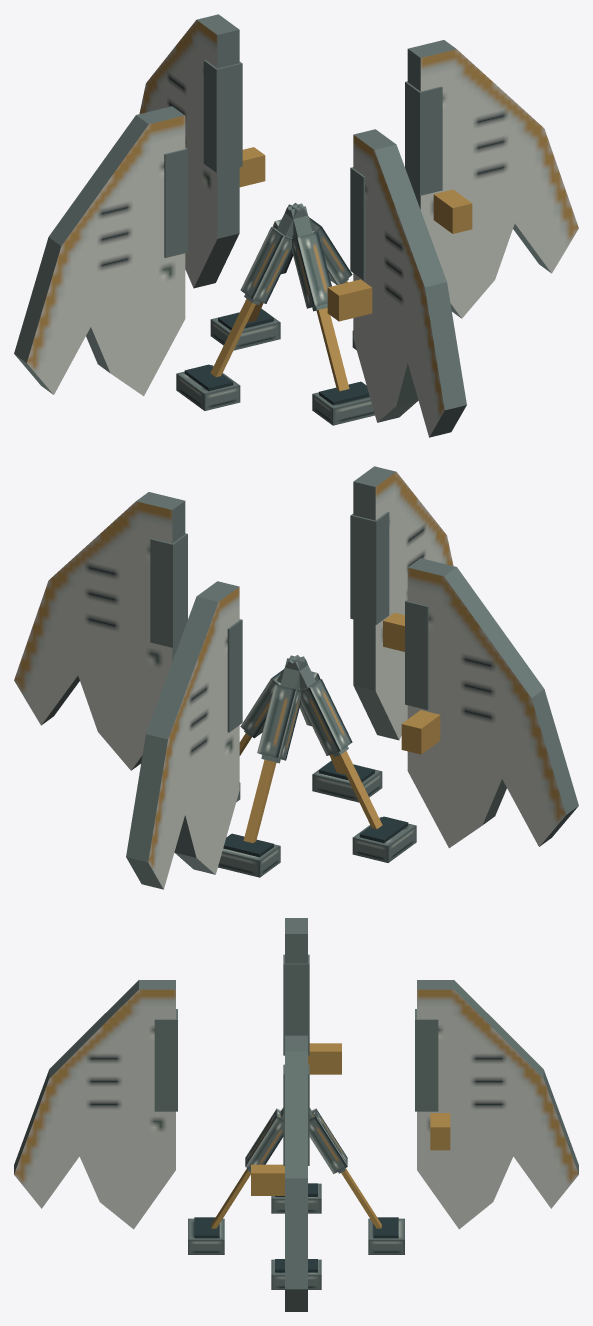
Rendered from rocket_fins_tier_3.obj.
3 views of the same model, one above another, from view 1: azimuth 30°, elevation 25°; view 2: azimuth 150°, elevation 25°; view 3: azimuth 270°, elevation 25° (orthographic). The views are drawn at different scales.
Parts seen in each view (by area): view 1: Fins, LegSouth, LegWest, LegNorth, LegEast; view 2: Fins, LegNorth, LegWest, LegSouth, LegEast; view 3: Fins, LegNorth, LegSouth, LegEast, LegWest.
Part boxes in pixels (left/top/right/bottom): Fins: left=14, top=14, right=578, bottom=437; LegSouth: left=289, top=206, right=374, bottom=425; LegWest: left=176, top=204, right=302, bottom=410; LegNorth: left=210, top=203, right=303, bottom=350; LegEast: left=292, top=203, right=356, bottom=349; Fins: left=14, top=466, right=578, bottom=889; LegNorth: left=218, top=658, right=303, bottom=877; LegWest: left=290, top=656, right=416, bottom=862; LegSouth: left=289, top=655, right=382, bottom=802; LegEast: left=236, top=655, right=300, bottom=801; Fins: left=14, top=918, right=578, bottom=1311; LegNorth: left=309, top=1108, right=404, bottom=1254; LegSouth: left=188, top=1108, right=283, bottom=1254; LegEast: left=271, top=1259, right=321, bottom=1289; LegWest: left=271, top=1183, right=321, bottom=1213.
Bounding box in the file's own units: 2.8 × 1.42 × 2.8.
